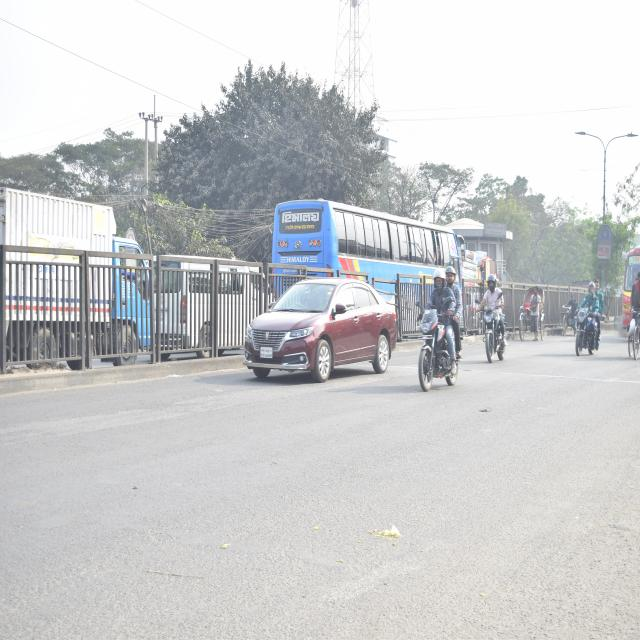bus: (623, 242, 640, 340)
car: (241, 261, 398, 394)
motorbike: (410, 282, 464, 406), (471, 281, 512, 370), (570, 285, 602, 363)
